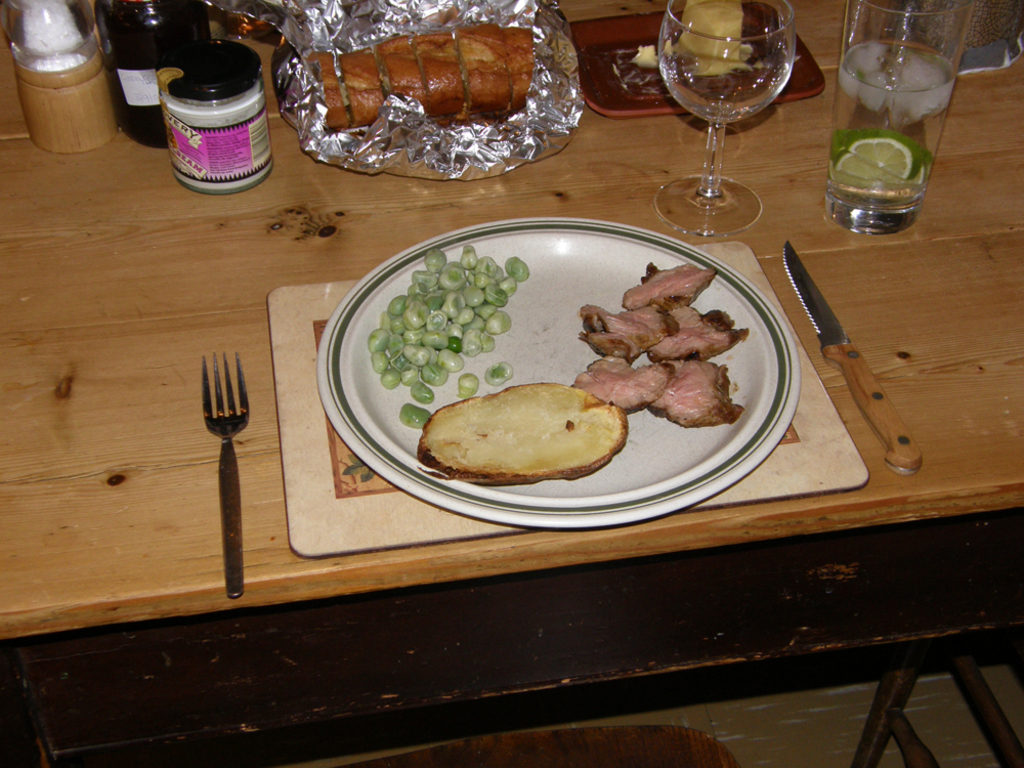plate: (316, 214, 800, 530)
